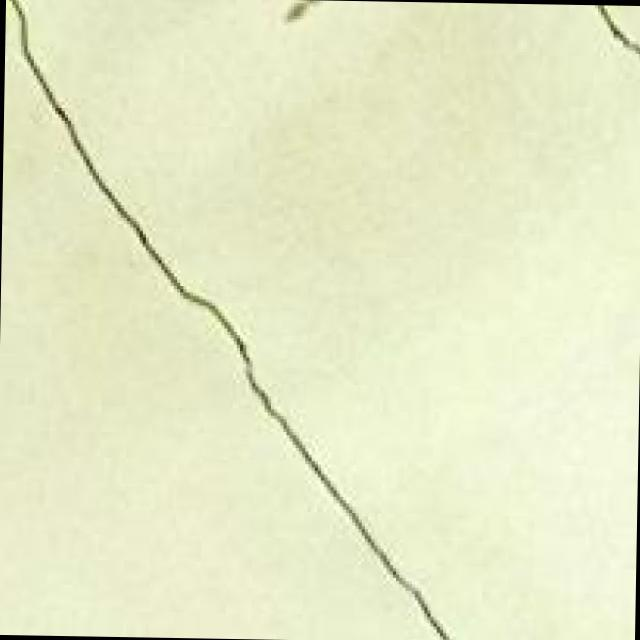crack: (0, 0, 475, 639)
